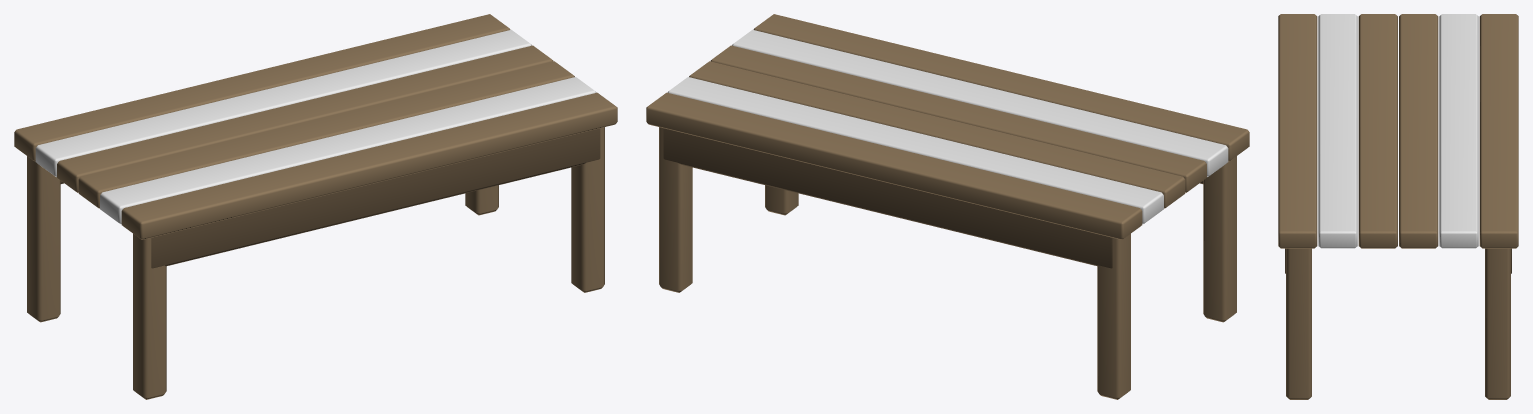
The model's file is DiningTable62.fbx.
The picture shows the model from 3 angles, left to right: view 1: azimuth 30°, elevation 25°; view 2: azimuth 150°, elevation 25°; view 3: azimuth 270°, elevation 25°; orthographic projection. The views are drawn at different scales.
Parts seen in each view (by area): view 1: DiningTable62; view 2: DiningTable62; view 3: DiningTable62.
Part boxes in pixels (bbox=[...]): DiningTable62: bbox=[14, 14, 617, 399]; DiningTable62: bbox=[646, 14, 1249, 399]; DiningTable62: bbox=[1278, 14, 1518, 399].
Bounding box in the file's own units: 240 × 88.5 × 111.
